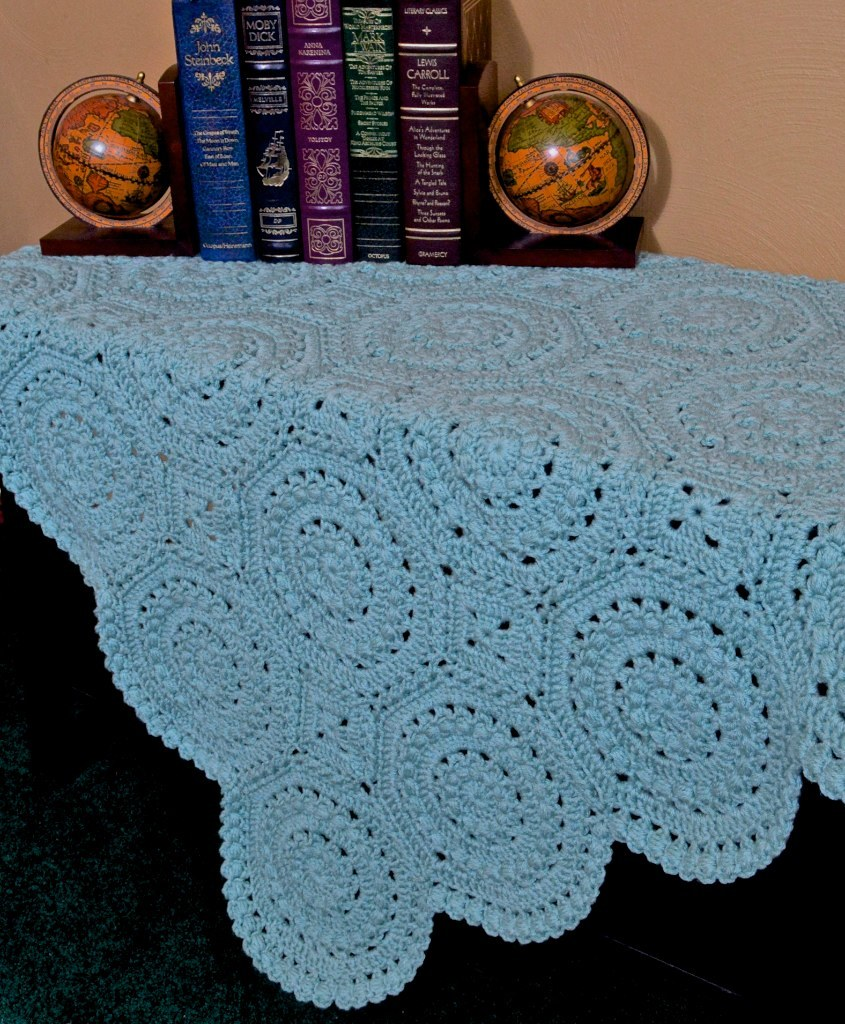Book: (174, 0, 496, 259)
